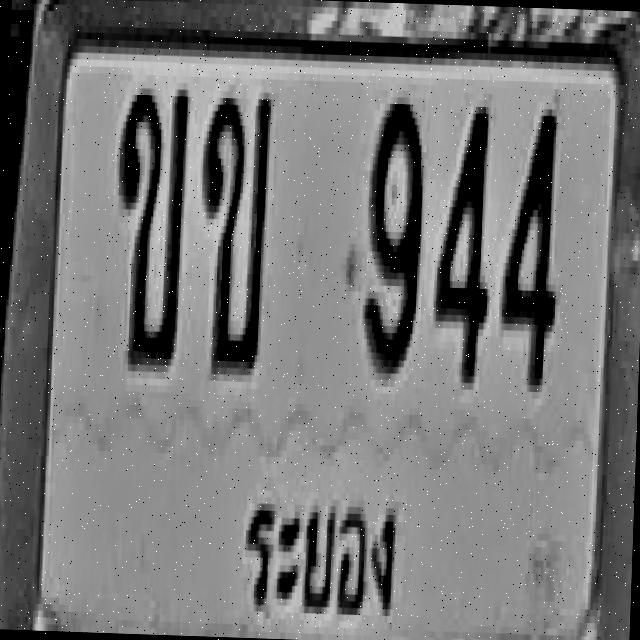11KhorKhai: (194, 90, 272, 376), (111, 80, 189, 366)
4: (498, 104, 562, 389), (431, 99, 494, 384)
9: (361, 96, 424, 374)
Rayong: (229, 464, 404, 640)
